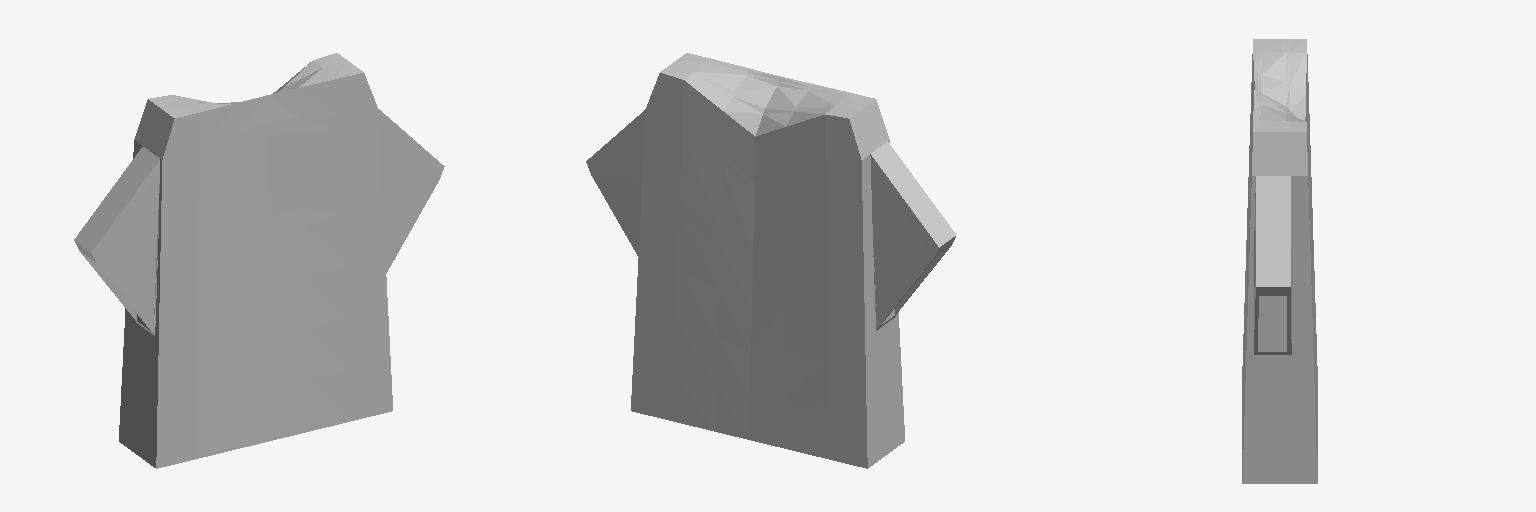
File: thin shirt.obj
3 views of the same model, side by side, from view 1: azimuth 30°, elevation 25°; view 2: azimuth 150°, elevation 25°; view 3: azimuth 270°, elevation 25° (orthographic).
Visible parts, largest first — view 1: shirt; view 2: shirt; view 3: shirt.
Part boxes in pixels (left/top/right/bottom): shirt: left=74, top=53, right=444, bottom=468; shirt: left=586, top=53, right=955, bottom=468; shirt: left=1242, top=39, right=1317, bottom=483.
Size of the model in its own units: 16.01 by 14.75 by 2.95.